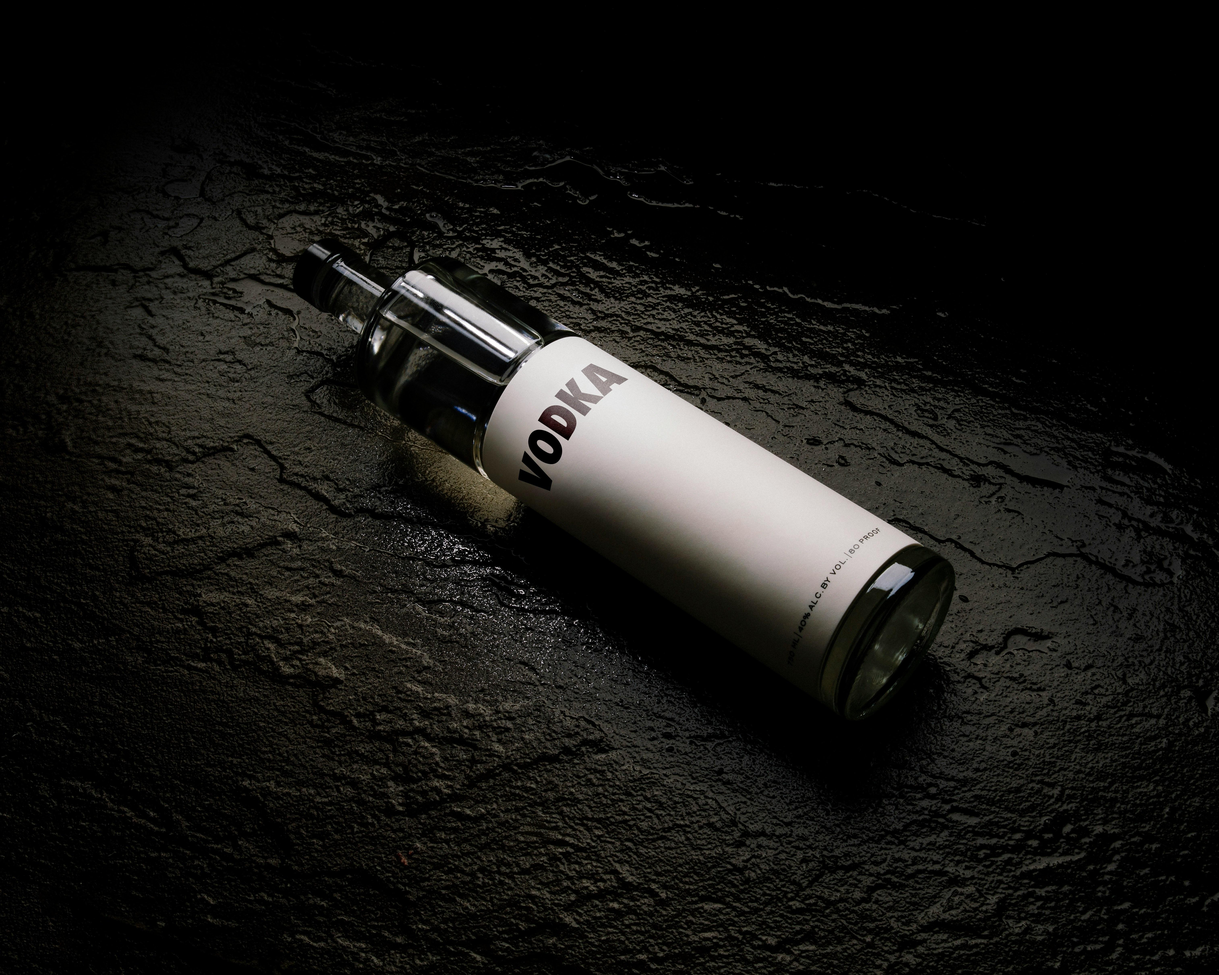Bottle-Detection: (252, 159, 1009, 771)
